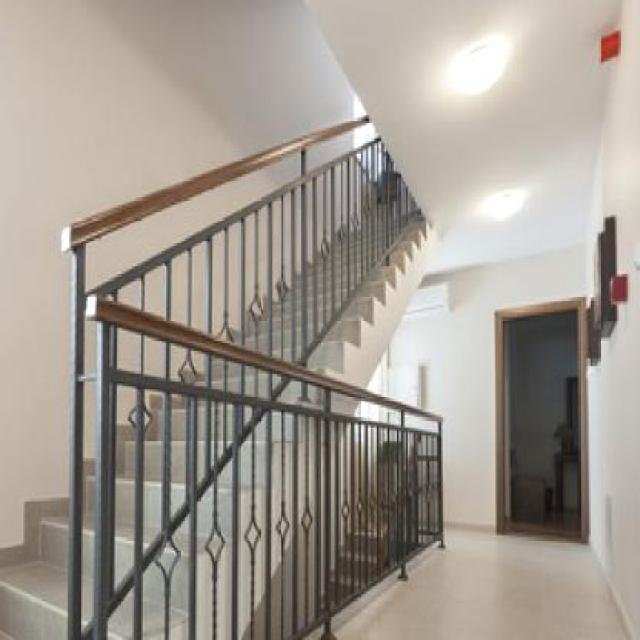stair: (2, 64, 444, 638)
